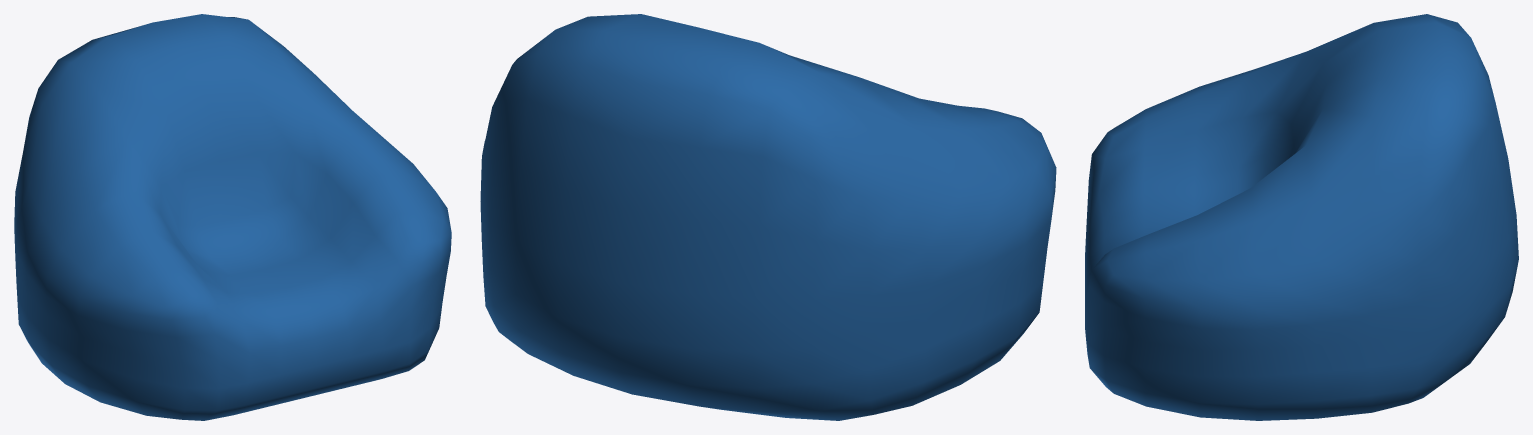
The model's file is Pouf_1.fbx.
3 renders of one model, left to right at view 1: azimuth 30°, elevation 25°; view 2: azimuth 150°, elevation 25°; view 3: azimuth 270°, elevation 25°, orthographic. The views are drawn at different scales.
Parts seen in each view (by area): view 1: Pouf_1; view 2: Pouf_1; view 3: Pouf_1.
Part boxes in pixels (x1,y1,x2,y2): Pouf_1: [14, 14, 451, 420]; Pouf_1: [480, 14, 1056, 420]; Pouf_1: [1085, 14, 1518, 420].
Size of the model in its own units: 135 by 90.85 by 122.
